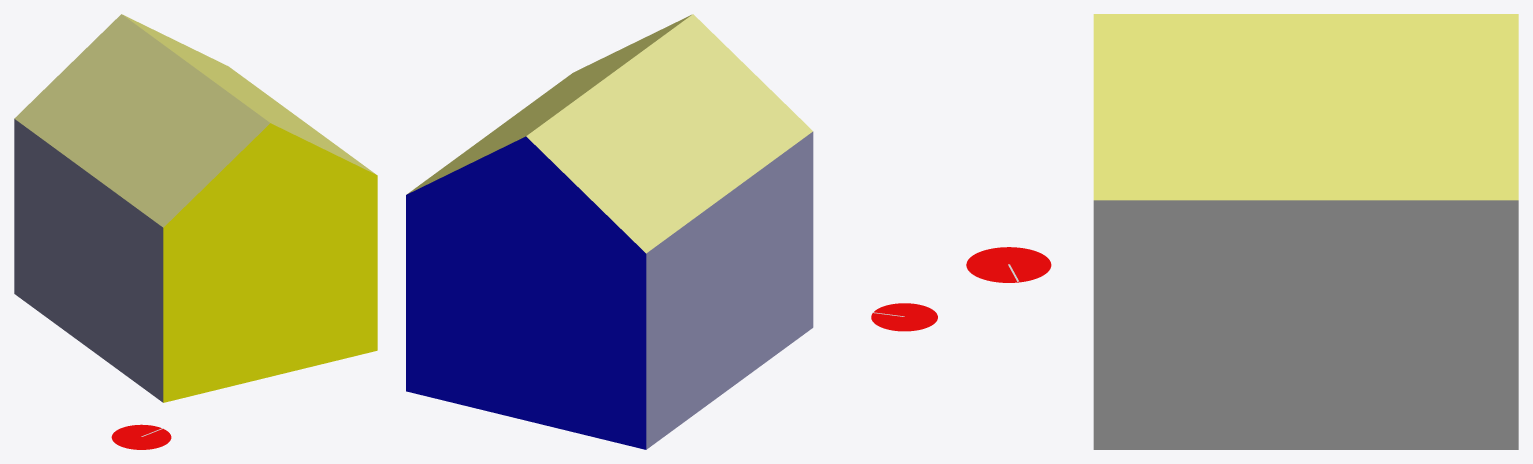
Rendered from result.glb.
3 views of the same model, side by side, from view 1: azimuth 30°, elevation 25°; view 2: azimuth 150°, elevation 25°; view 3: azimuth 270°, elevation 25° (orthographic). The views are drawn at different scales.
Visible parts, largest first — view 1: 3a85861b-3a4d-49fd-8d69-049c156fe59c__undefined, ca83389a-cf44-4999-8c31-da6391e41f32__undefined, 0f35cffa-fbe5-470e-9414-b95c79b0db25__undefined, 8f7ee132-726b-4b8c-a26a-a642679f8476__undefined, bf5054fc-83b8-4143-b572-b86b0d9bf3a9__Circle; view 2: 0334a33f-1b97-4a22-a09d-4c5fd1be0900__undefined, ca83389a-cf44-4999-8c31-da6391e41f32__undefined, 0f35cffa-fbe5-470e-9414-b95c79b0db25__undefined, 8f7ee132-726b-4b8c-a26a-a642679f8476__undefined, bf5054fc-83b8-4143-b572-b86b0d9bf3a9__Circle; view 3: 7ec5e769-ca4d-401a-8120-a92a561b5e2b__undefined, 8f7ee132-726b-4b8c-a26a-a642679f8476__undefined, bf5054fc-83b8-4143-b572-b86b0d9bf3a9__Circle.
Part boxes in pixels (bbox=[...]): 3a85861b-3a4d-49fd-8d69-049c156fe59c__undefined: bbox=[163, 123, 377, 402]; ca83389a-cf44-4999-8c31-da6391e41f32__undefined: bbox=[14, 14, 269, 227]; 0f35cffa-fbe5-470e-9414-b95c79b0db25__undefined: bbox=[14, 119, 163, 402]; 8f7ee132-726b-4b8c-a26a-a642679f8476__undefined: bbox=[122, 14, 376, 174]; bf5054fc-83b8-4143-b572-b86b0d9bf3a9__Circle: bbox=[111, 424, 171, 449]; 0334a33f-1b97-4a22-a09d-4c5fd1be0900__undefined: bbox=[406, 136, 646, 449]; ca83389a-cf44-4999-8c31-da6391e41f32__undefined: bbox=[526, 14, 812, 253]; 0f35cffa-fbe5-470e-9414-b95c79b0db25__undefined: bbox=[646, 131, 813, 449]; 8f7ee132-726b-4b8c-a26a-a642679f8476__undefined: bbox=[407, 14, 691, 194]; bf5054fc-83b8-4143-b572-b86b0d9bf3a9__Circle: bbox=[871, 303, 937, 331]; 7ec5e769-ca4d-401a-8120-a92a561b5e2b__undefined: bbox=[1093, 200, 1518, 449]; 8f7ee132-726b-4b8c-a26a-a642679f8476__undefined: bbox=[1093, 14, 1518, 200]; bf5054fc-83b8-4143-b572-b86b0d9bf3a9__Circle: bbox=[966, 247, 1051, 282].
Size of the model in its own units: 565 by 469 by 650.
